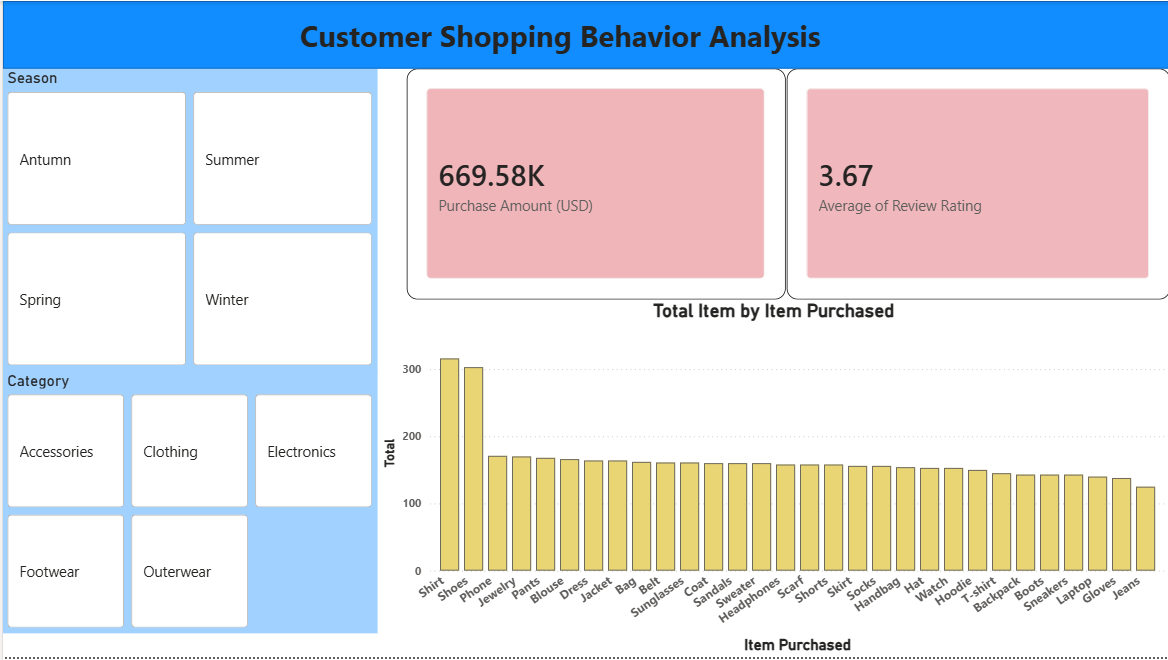

What the dashboard file says about the page in this screenshot:
{"tool":"powerbi","page":{"name":"Page 1","canvas":[1280,720],"ordinal":0},"visuals":[{"type":"cardVisual","fields":{"Data":["Avg(item.Review Rating)"]},"box":[859.7,74.2,420.6,253.6],"z":0},{"type":"cardVisual","title":"Purchase Amount (USD)","fields":{"Data":["Sum(item.Purchase Amount (USD))"]},"box":[443.8,74.2,415.9,253.6],"z":1000},{"type":"columnChart","title":"Total Item by Item Purchased","fields":{"Category":["item.Item Purchased"],"Y":["CountNonNull(item.Item Purchased)"]},"box":[411.3,327.8,869,392.8],"z":2000},{"type":"advancedSlicerVisual","fields":{"Values":["item.Season"]},"box":[0,74.2,411.3,332.4],"z":3000},{"type":"advancedSlicerVisual","fields":{"Values":["item.Category"]},"box":[0,406.7,411.3,287.6],"z":4000},{"type":"shape","box":[0,0,1280.3,74.2],"z":5000},{"type":"textbox","box":[321.6,10.8,660.3,52.6],"z":6000}]}

Visuals, with their boxes in screenshot pixels (x1, y1, x2, y2), scaled from the page's 1280x720 canvas onto the 1168x660 screenshot:
cardVisual - Avg(item.Review Rating): <box>784,68,1167,300</box>
"Purchase Amount (USD)" cardVisual: <box>405,68,784,300</box>
"Total Item by Item Purchased" columnChart: <box>375,300,1167,659</box>
advancedSlicerVisual - item.Season: <box>0,68,375,373</box>
advancedSlicerVisual - item.Category: <box>0,373,375,636</box>
shape: <box>0,0,1167,68</box>
textbox: <box>293,10,896,58</box>
